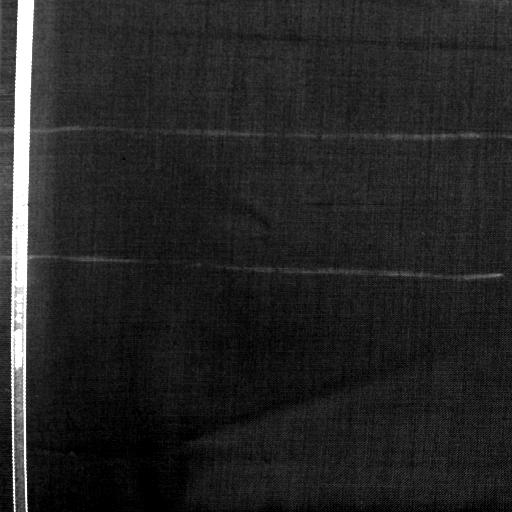fabric_broken_pick: (278, 181, 404, 233)
